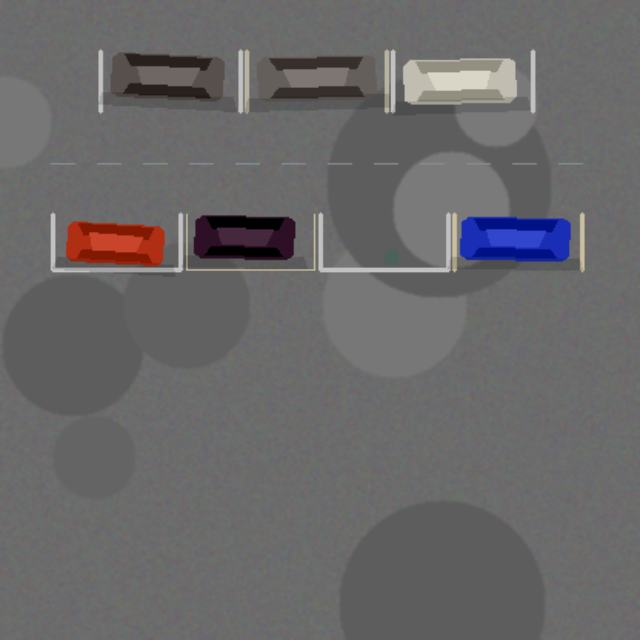space-empty: (320, 214, 448, 269)
space-occupied: (100, 51, 240, 111), (246, 51, 386, 111), (392, 51, 532, 111), (52, 214, 180, 269), (186, 214, 314, 269), (454, 214, 582, 269)
